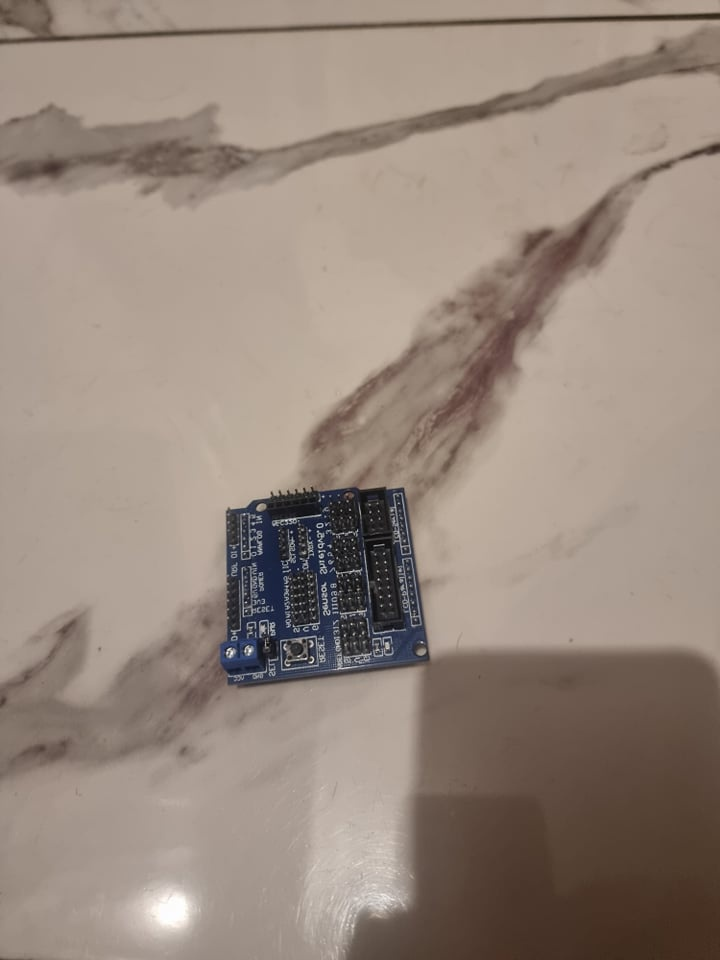5V EXPANSION: (221, 488, 430, 694)
